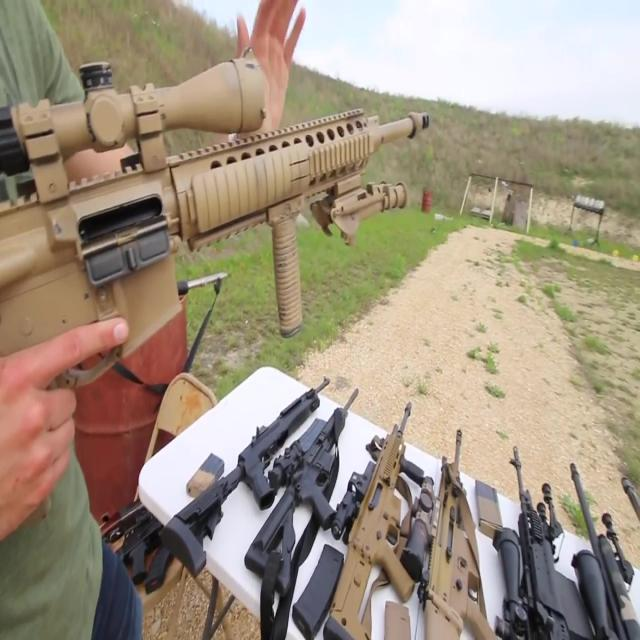Weapon: (123, 310, 640, 640), (0, 56, 459, 368)
